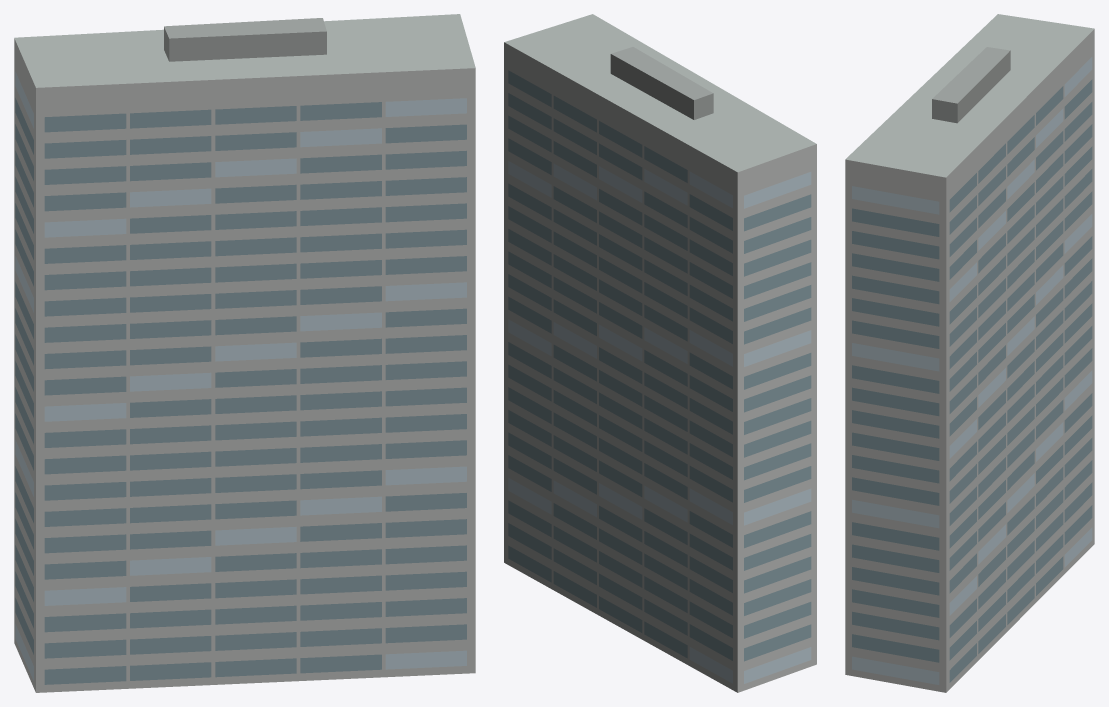
File: fallback-gwanak-dream-town-137.glb
3 renders of one model, left to right at view 1: azimuth 30°, elevation 25°; view 2: azimuth 150°, elevation 25°; view 3: azimuth 270°, elevation 25°, orthographic. The views are drawn at different scales.
Parts seen in each view (by area): view 1: fallback-gwanak-dream-town-137; view 2: fallback-gwanak-dream-town-137; view 3: fallback-gwanak-dream-town-137.
Part boxes in pixels (<box>): fallback-gwanak-dream-town-137: <box>14,14,475,692</box>; fallback-gwanak-dream-town-137: <box>504,14,816,692</box>; fallback-gwanak-dream-town-137: <box>845,14,1094,692</box>.
Size of the model in its own units: 42.64 by 65 by 27.49.
